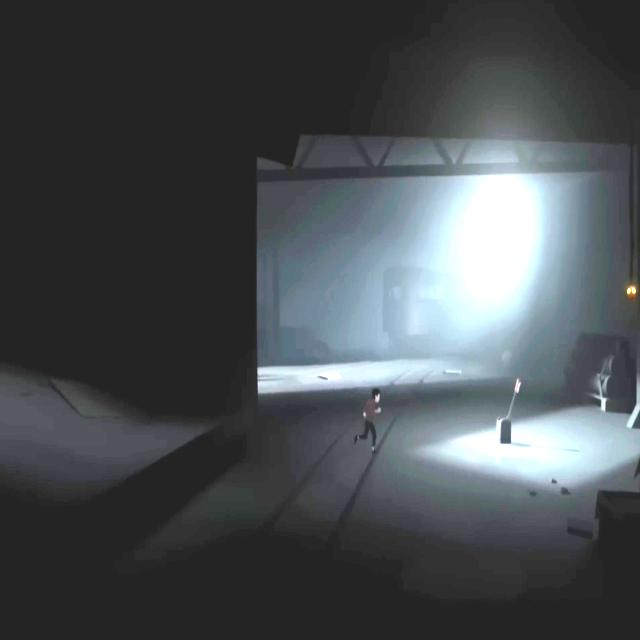boy: (355, 387, 381, 453)
interactible: (497, 378, 521, 444), (626, 285, 638, 297)
